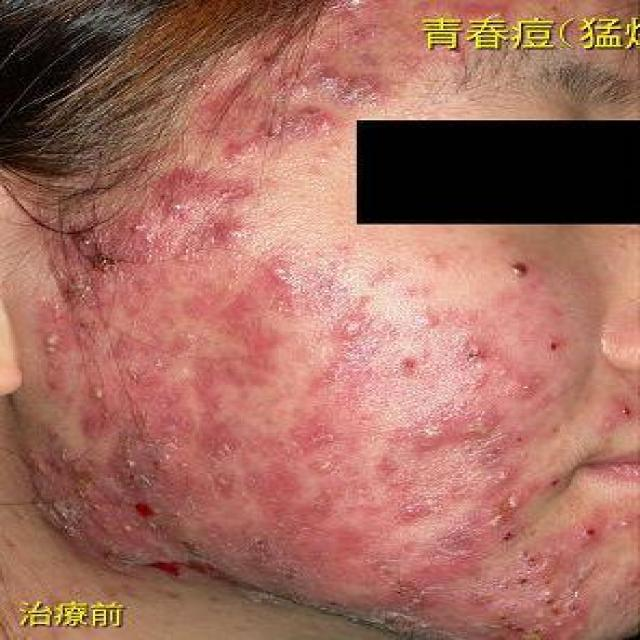nodule: (199, 361, 262, 403), (190, 417, 251, 459), (125, 271, 171, 324), (456, 582, 510, 627), (275, 525, 335, 563), (430, 534, 489, 570), (70, 377, 126, 414), (234, 329, 288, 367), (182, 470, 260, 496), (454, 415, 510, 451), (234, 257, 294, 290), (499, 367, 552, 403), (208, 212, 257, 248), (456, 324, 506, 359), (247, 465, 309, 493), (112, 430, 166, 462), (508, 586, 577, 611), (41, 319, 91, 353), (486, 499, 556, 523), (290, 427, 346, 457), (333, 523, 381, 558), (277, 64, 322, 101), (389, 417, 435, 452), (260, 109, 298, 151), (22, 449, 64, 486), (521, 611, 580, 637), (382, 555, 422, 593), (208, 176, 255, 207), (354, 72, 396, 106), (106, 337, 149, 370), (389, 354, 435, 384), (142, 386, 184, 418), (327, 308, 368, 340), (63, 305, 106, 335), (300, 108, 340, 140), (573, 507, 623, 532), (119, 214, 162, 242), (484, 464, 524, 494), (205, 90, 242, 122), (307, 70, 352, 94), (61, 266, 98, 294), (398, 489, 428, 522), (223, 310, 255, 340), (100, 239, 138, 263), (523, 539, 556, 565), (223, 141, 257, 164), (286, 496, 310, 526), (171, 287, 218, 302), (93, 510, 123, 533), (165, 193, 192, 218), (180, 242, 208, 266), (151, 337, 182, 358), (165, 172, 192, 186)
